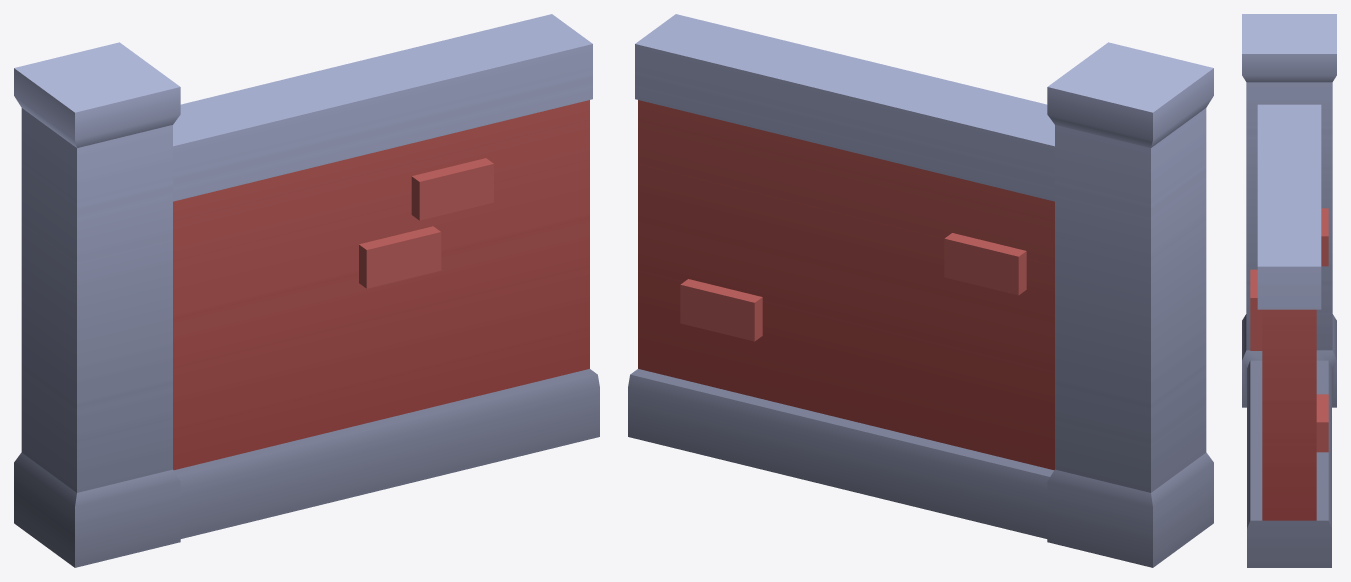
Rendered from brick-wall-end.glb.
3 views of the same model, side by side, from view 1: azimuth 30°, elevation 25°; view 2: azimuth 150°, elevation 25°; view 3: azimuth 270°, elevation 25° (orthographic). The views are drawn at different scales.
Visible parts, largest first — view 1: Asset3DLoader.sceneRoot; view 2: Asset3DLoader.sceneRoot; view 3: Asset3DLoader.sceneRoot.
Boxes of the visible parts, bbox=[...] form: Asset3DLoader.sceneRoot: bbox=[14, 14, 599, 567]; Asset3DLoader.sceneRoot: bbox=[628, 14, 1213, 567]; Asset3DLoader.sceneRoot: bbox=[1242, 14, 1336, 567].
Bounding box in the file's own units: 1 × 0.8239 × 0.2.
1 material, 1 textured.
